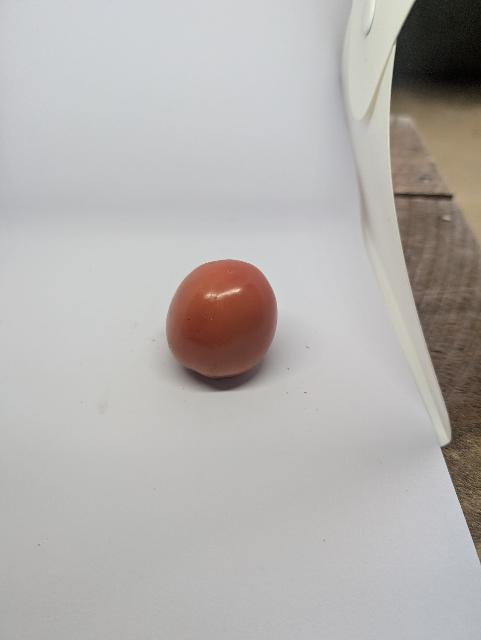red: (150, 248, 288, 389)
